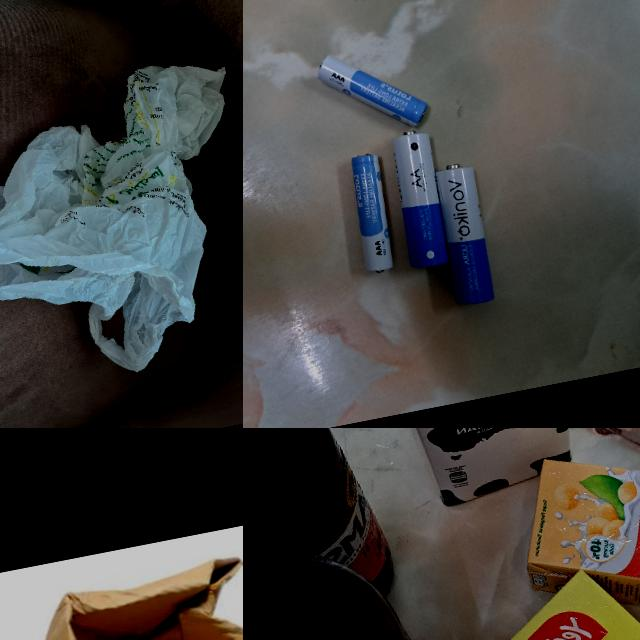bateria: (313, 39, 432, 144), (430, 159, 500, 308), (386, 128, 453, 271), (344, 152, 400, 276)
caixinha: (296, 428, 605, 523), (506, 428, 640, 640), (481, 546, 640, 640)
garrafa de vidro: (258, 428, 395, 610)
papelão: (0, 534, 243, 640)
sacola plástica: (0, 47, 243, 423)
